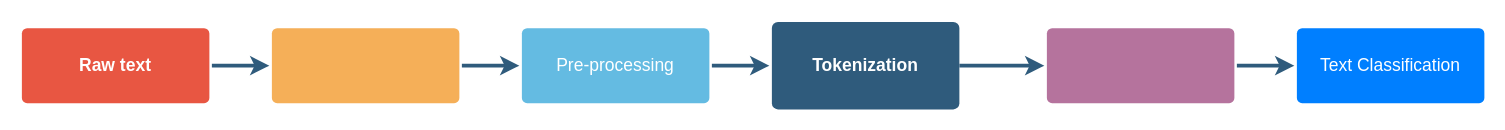
This 1505x130 diagram has some shape labels left out. Here are the shapes that lost their labels. From the top down, the centre of each, then its label:
(x=365, y=65): Filtering / Cleansing
(x=1140, y=65): Padding
